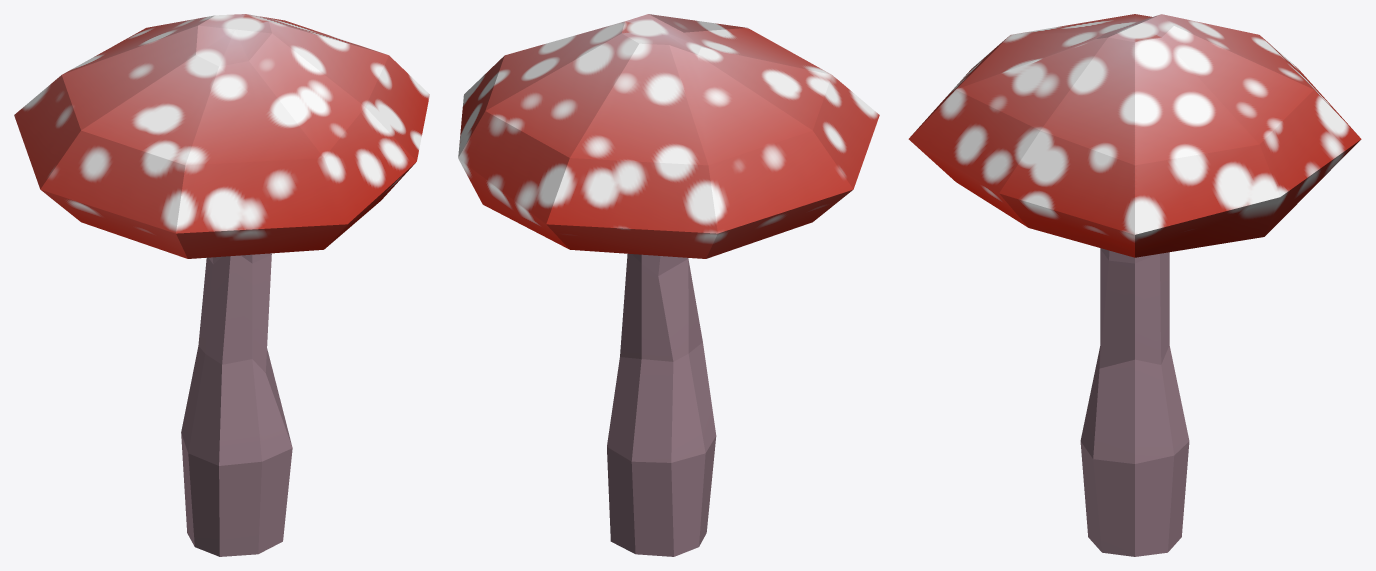
Rendered from Toadstool.fbx.
3 renders of one model, left to right at view 1: azimuth 30°, elevation 25°; view 2: azimuth 150°, elevation 25°; view 3: azimuth 270°, elevation 25°, orthographic.
Visible parts, largest first — view 1: Cube.041; view 2: Cube.041; view 3: Cube.041.
Part boxes in pixels (box(x1,y1,x2,y2)): Cube.041: box(14, 14, 429, 556); Cube.041: box(458, 14, 879, 556); Cube.041: box(908, 14, 1361, 556).
Size of the model in its own units: 334 by 415 by 334.
